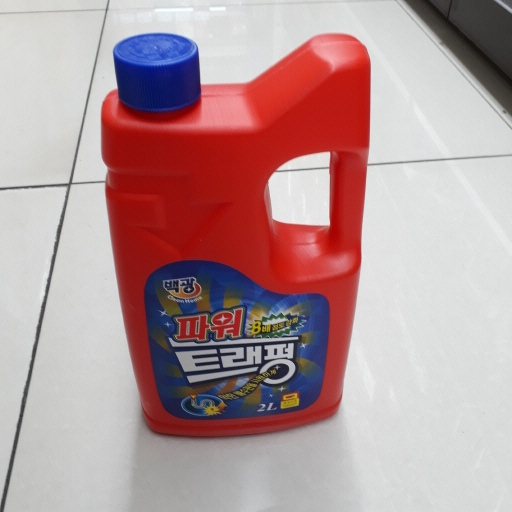Plastic_1: (96, 34, 373, 441)
